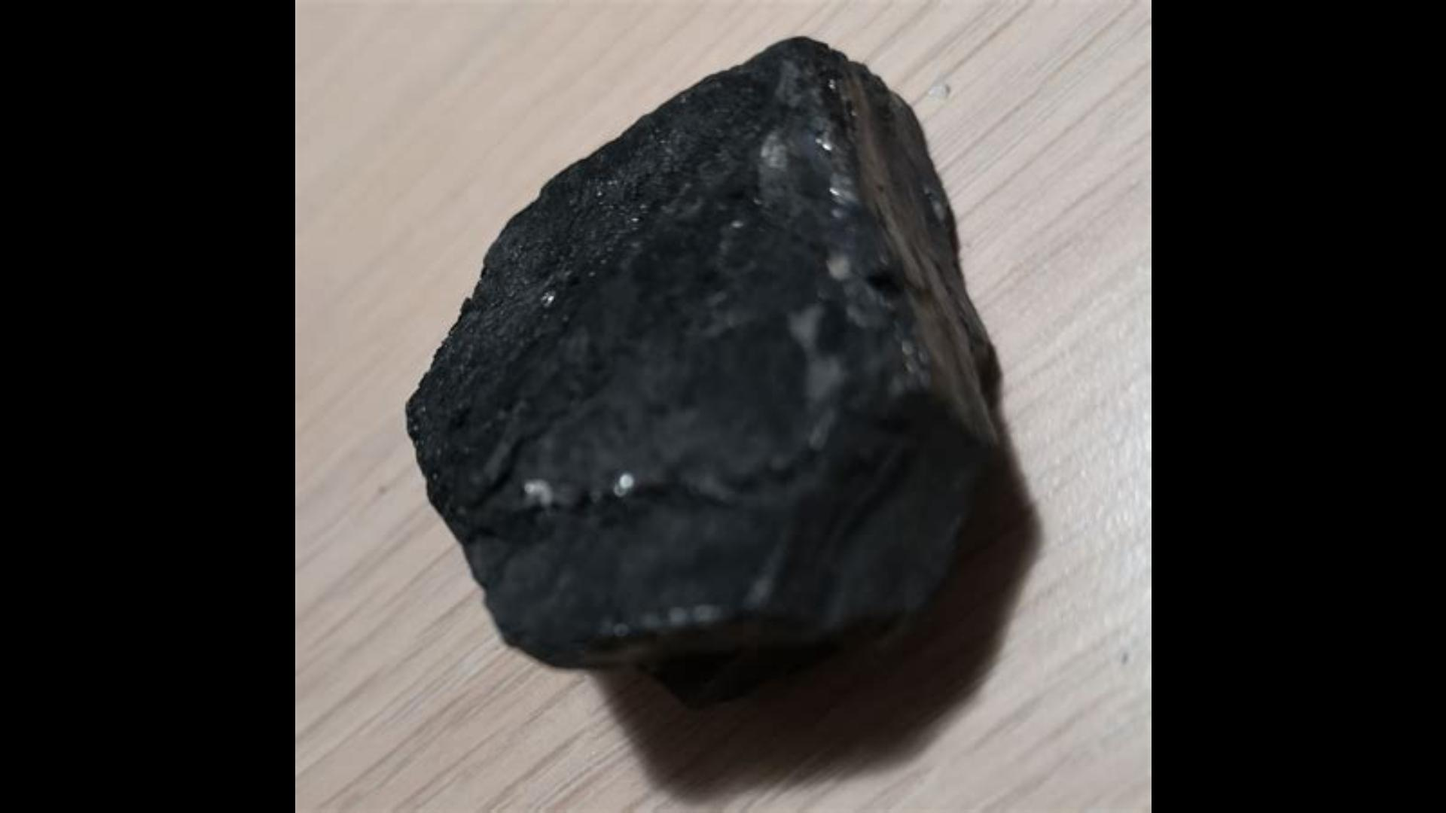rock: (408, 40, 1012, 690)
